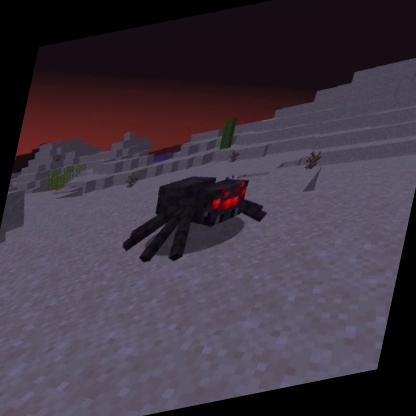spider: (113, 155, 281, 276)
